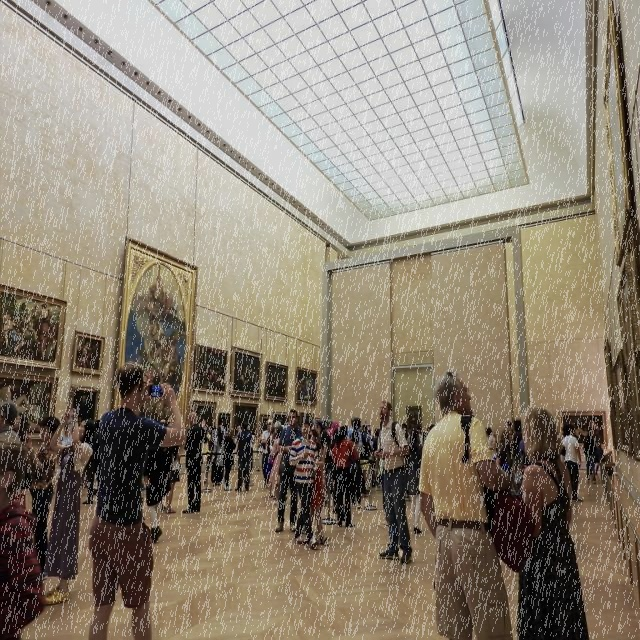pessoa: (84, 359, 189, 639), (417, 366, 517, 640), (514, 405, 592, 639), (118, 264, 195, 452), (39, 406, 97, 606), (0, 442, 48, 640), (194, 345, 316, 403), (21, 413, 61, 582), (376, 398, 413, 564), (0, 289, 62, 362), (288, 416, 320, 550), (142, 416, 174, 544), (273, 408, 303, 532), (180, 410, 208, 514), (332, 423, 359, 528), (0, 378, 51, 433), (308, 440, 331, 546), (404, 428, 424, 534), (558, 423, 584, 502), (358, 429, 384, 492), (82, 418, 100, 506), (53, 422, 73, 500), (234, 422, 254, 492), (398, 410, 436, 444), (164, 444, 182, 514), (268, 425, 284, 502), (350, 428, 364, 510), (74, 392, 95, 446), (142, 479, 168, 521), (210, 424, 227, 488), (264, 420, 280, 488), (222, 426, 238, 492), (328, 427, 340, 515), (564, 413, 604, 439), (495, 426, 516, 474), (260, 418, 274, 488), (512, 437, 530, 488), (75, 333, 100, 369), (581, 431, 597, 485), (0, 402, 21, 442), (314, 419, 330, 470), (205, 425, 218, 484), (12, 412, 32, 449), (403, 454, 419, 500), (242, 435, 256, 486), (194, 406, 213, 436), (308, 428, 324, 462), (485, 426, 499, 464), (347, 415, 380, 429), (210, 418, 228, 443), (326, 442, 334, 496), (324, 416, 340, 442), (594, 441, 605, 476), (256, 428, 264, 472), (500, 420, 512, 444), (381, 491, 388, 525), (491, 431, 498, 456), (236, 420, 240, 454), (310, 416, 318, 432), (346, 428, 354, 442), (280, 422, 290, 428)
